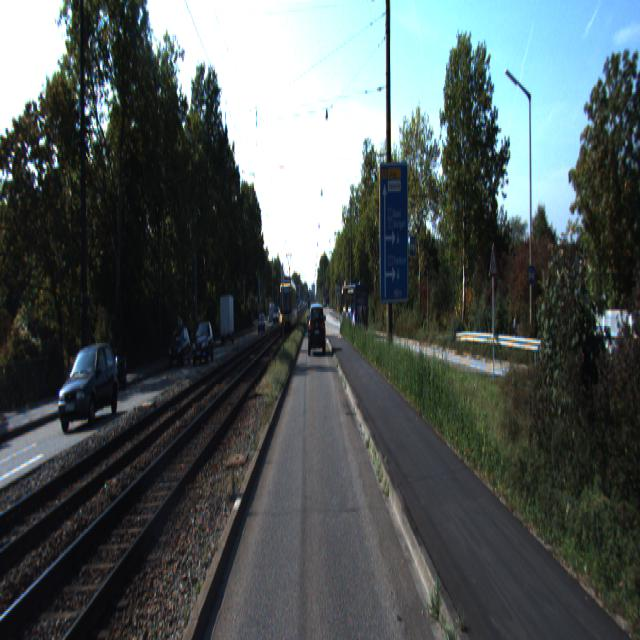Car: (57, 340, 122, 437), (341, 280, 369, 334), (191, 318, 215, 366), (168, 326, 192, 369), (308, 302, 324, 353), (218, 293, 234, 344)
